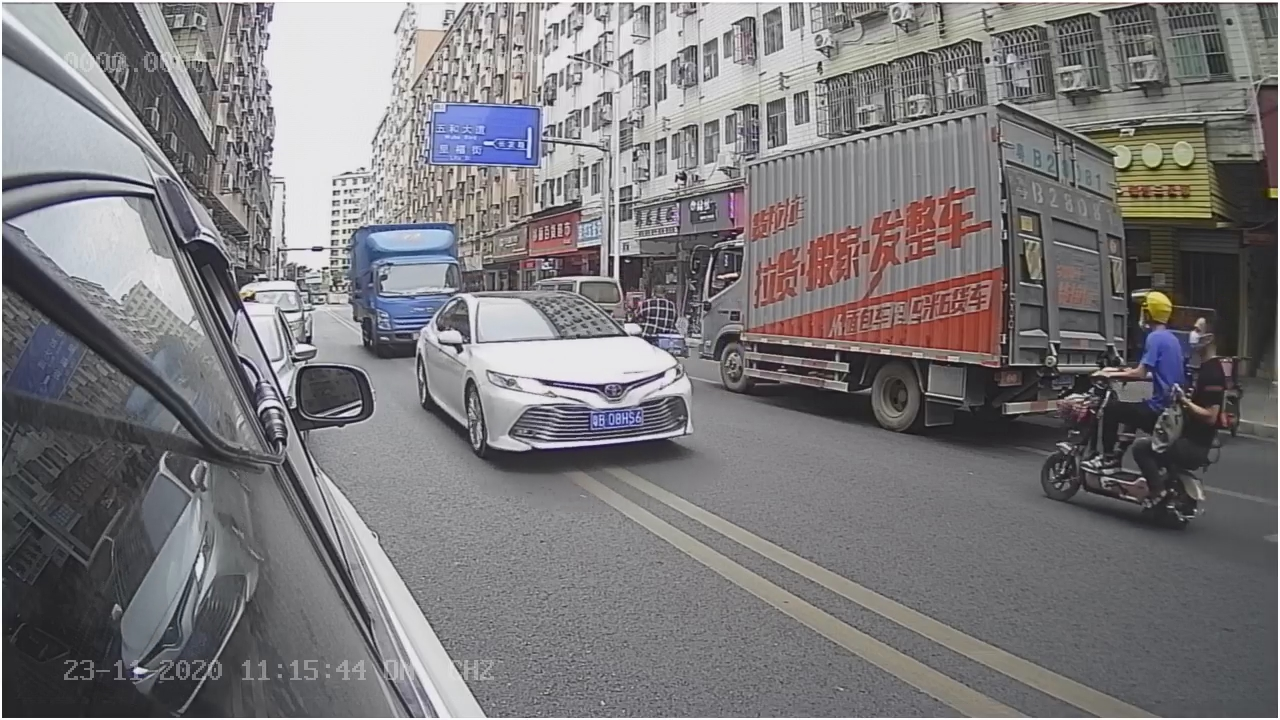person: (1127, 291, 1188, 405)
